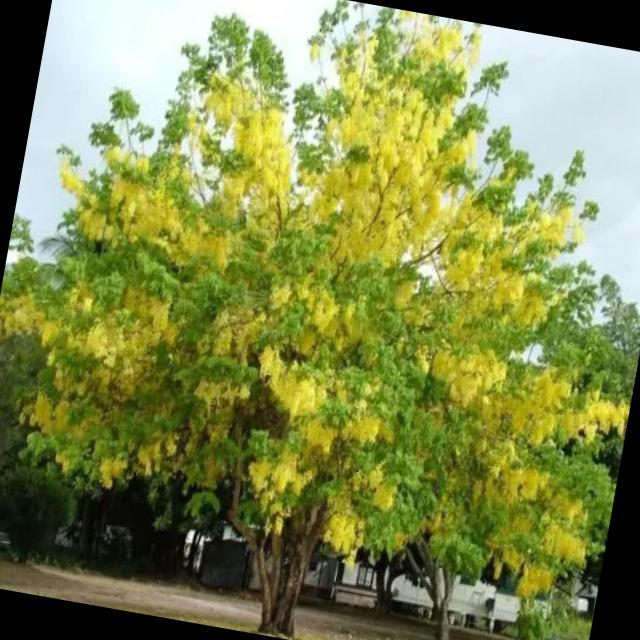Amaltas: (49, 29, 586, 578)
